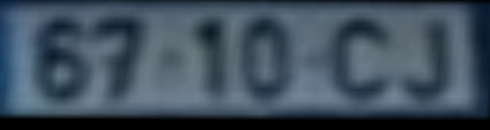0: (237, 16, 295, 110)
1: (189, 16, 232, 106)
6: (25, 16, 98, 111)
7: (92, 19, 152, 107)
C: (330, 16, 394, 105)
J: (399, 20, 456, 107)
